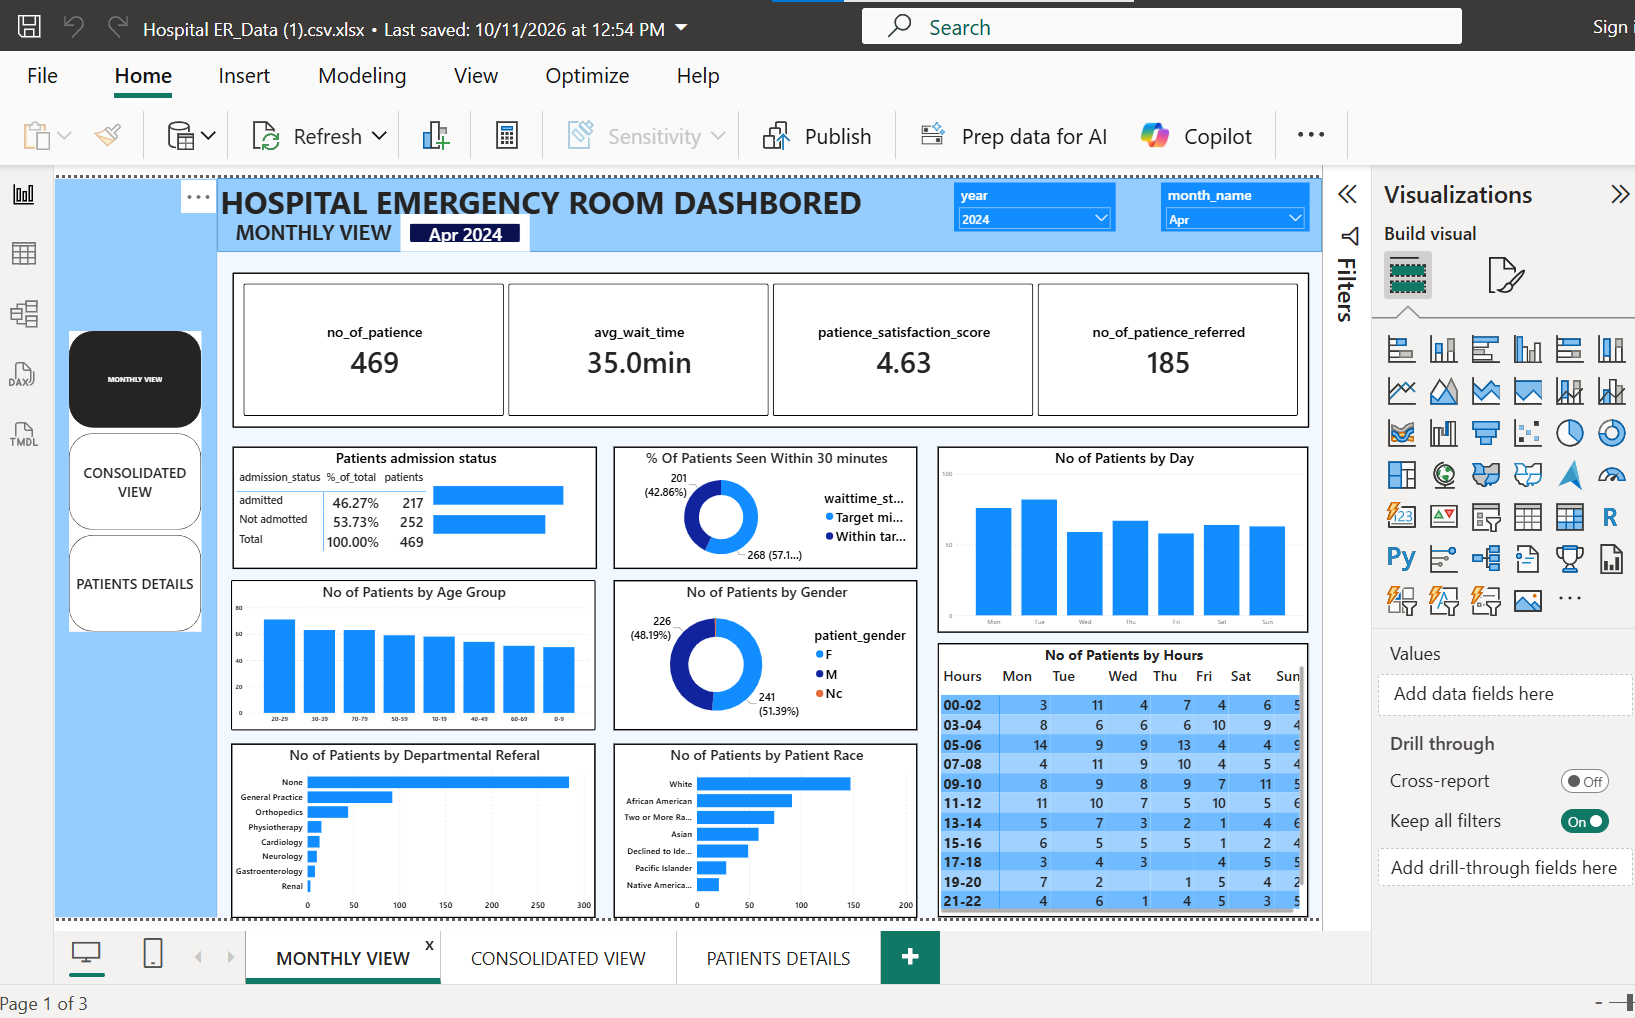

What the dashboard file says about the page in this screenshot:
{"tool":"powerbi","page":{"name":"MONTHLY VIEW","canvas":[2400,1400],"ordinal":0},"visuals":[{"type":"shape","box":[0,0,309.3,1401.1],"z":0},{"type":"shape","box":[309.3,0,2090.8,139.2],"z":1000},{"type":"textbox","box":[309.3,0,1323.7,111.3],"z":2000},{"type":"textbox","box":[337.1,71.1,374.2,68],"z":3000},{"type":"slicer","fields":{"Values":["dim_date.year"]},"box":[1704.2,9.3,306.2,92.8],"z":4000},{"type":"slicer","fields":{"Values":["dim_date.month"]},"box":[2093.9,9.3,281.4,92.8],"z":5000},{"type":"cardVisual","fields":{"Data":["Min(dim_date.month_and_year)"]},"box":[655.7,68,244.3,71.1],"z":6000},{"type":"textbox","box":[671.1,179.4,15.5,64.9],"z":7000},{"type":"textbox","box":[681.1,189.4,15.5,64.9],"z":8000},{"type":"cardVisual","fields":{"Data":["_Measure.no_of_patience","_Measure.avg_wait_time","_Measure.patience_satisfaction_score","_Measure.no_of_patience_referred"]},"box":[337.1,179.4,2038.2,293.8],"z":9000},{"type":"pivotTable","title":"Patients admission status","fields":{"Rows":["Hospital_ER_Data.admission_status"],"Values":["_Measure.no_of_patience","_Measure.no_of_patience1"]},"box":[337.1,507.2,689.7,232],"z":10000},{"type":"barChart","fields":{"Category":["Hospital_ER_Data.admission_status"],"Y":["_Measure.no_of_patience"]},"box":[711.4,541.2,303.1,167],"z":11000},{"type":"barChart","fields":{"Category":["Hospital_ER_Data.department_referral"],"Y":["_Measure.no_of_patience"]},"box":[334,1070.1,689.7,330.9],"z":12000},{"type":"donutChart","title":"% Of Patients Seen Within 30 minutes","fields":{"Category":["Hospital_ER_Data.waittime_status"],"Y":["_Measure.no_of_patience"]},"box":[1057.8,507.2,575.3,232],"z":13000},{"type":"clusteredColumnChart","title":"No of Patients by Age Group","fields":{"Category":["Hospital_ER_Data.age_group"],"Y":["_Measure.no_of_patience"]},"box":[334,760.8,689.7,284.5],"z":14000},{"type":"donutChart","title":"No of Patients by Gender","fields":{"Y":["_Measure.no_of_patience"],"Category":["Hospital_ER_Data.patient_gender"]},"box":[1057.8,760.8,575.3,284.5],"z":15000},{"type":"barChart","title":"No of Patients by Departmental Referal","fields":{"Category":["Hospital_ER_Data.department_referral"],"Y":["_Measure.no_of_patience"]},"box":[334,1069.1,689.7,330.9],"z":16000},{"type":"barChart","title":"No of Patients by Patient Race","fields":{"Y":["_Measure.no_of_patience"],"Category":["Hospital_ER_Data.patient_race"]},"box":[1057.8,1070.1,575.3,330.9],"z":17000},{"type":"pivotTable","title":"No of Patients by Hours","fields":{"Rows":["Hospital_ER_Data.waittime_interval"],"Columns":["dim_date.Day_name"],"Values":["_Measure.no_of_patience"]},"box":[1673.2,881.5,702.1,519.6],"z":18000},{"type":"columnChart","title":"No of Patients by Day ","fields":{"Category":["dim_date.Day_name"],"Y":["_Measure.no_of_patience"]},"box":[1673.2,507.2,702.1,352.6],"z":19000},{"type":"pageNavigator","title":"Monthly View","box":[27.8,290.7,250.5,569.1],"z":19001}]}

Visuals, with their boxes on the page's 2400x1400 design canvas (x1, y1, x2, y2). These are canvas units, not pixel positions in the 1635x1018 screenshot, which may show the page scaled, cropped or inside an application window:
shape: (0,0,309,1401)
shape: (309,0,2400,139)
textbox: (309,0,1633,111)
textbox: (337,71,711,139)
slicer - dim_date.year: (1704,9,2010,102)
slicer - dim_date.month: (2094,9,2375,102)
cardVisual - Min(dim_date.month_and_year): (656,68,900,139)
textbox: (671,179,687,244)
textbox: (681,189,697,254)
cardVisual - _Measure.no_of_patience x _Measure.avg_wait_time: (337,179,2375,473)
"Patients admission status" pivotTable: (337,507,1027,739)
barChart - Hospital_ER_Data.admission_status x _Measure.no_of_patience: (711,541,1014,708)
barChart - Hospital_ER_Data.department_referral x _Measure.no_of_patience: (334,1070,1024,1401)
"% Of Patients Seen Within 30 minutes" donutChart: (1058,507,1633,739)
"No of Patients by Age Group" clusteredColumnChart: (334,761,1024,1045)
"No of Patients by Gender" donutChart: (1058,761,1633,1045)
"No of Patients by Departmental Referal" barChart: (334,1069,1024,1400)
"No of Patients by Patient Race" barChart: (1058,1070,1633,1401)
"No of Patients by Hours" pivotTable: (1673,882,2375,1401)
"No of Patients by Day " columnChart: (1673,507,2375,860)
"Monthly View" pageNavigator: (28,291,278,860)
